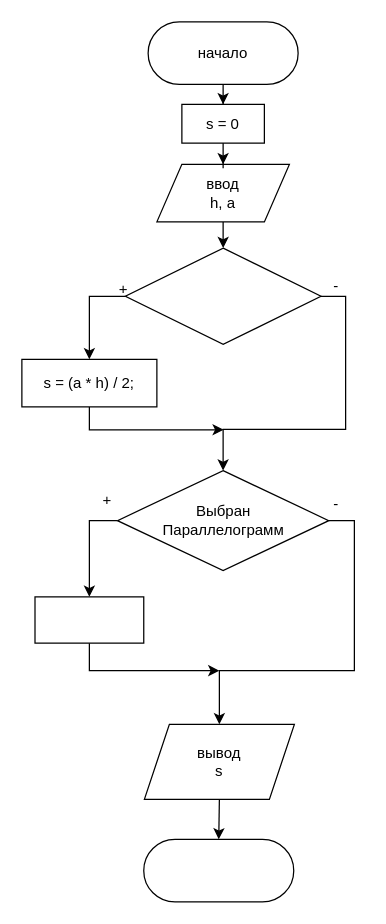
This 386x924 diagram has some shape labels left out. The shapes that lost their labels are listed below. From the top down, each one's centre as x and y in pixels, then its label:
the point at 222,295: Выбран треуголльник
the point at 89,619: s = a * h
the point at 218,870: конец
